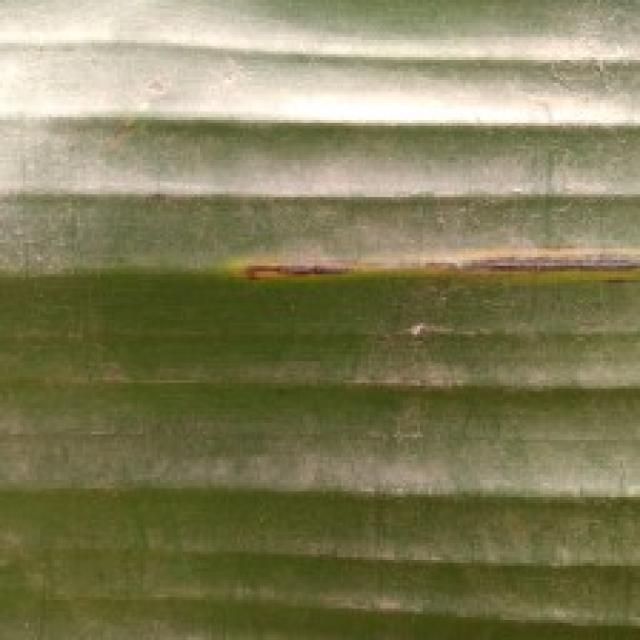Early_leaf_spot: (215, 232, 640, 312)
